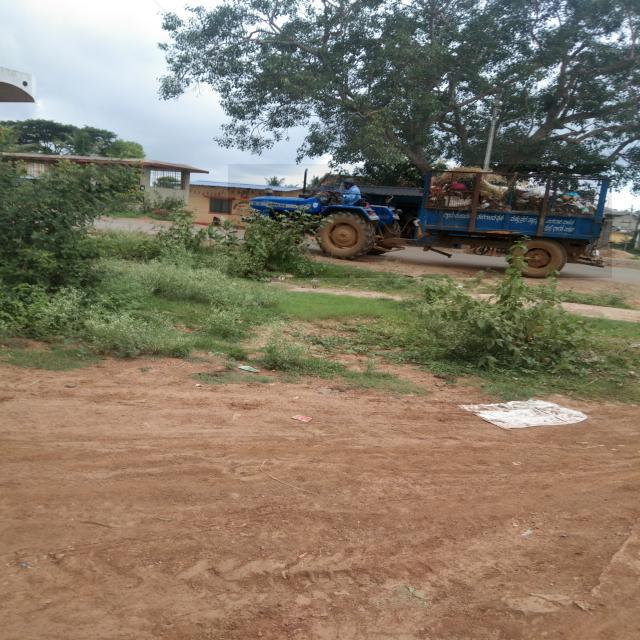Tractot: (228, 164, 612, 278)
